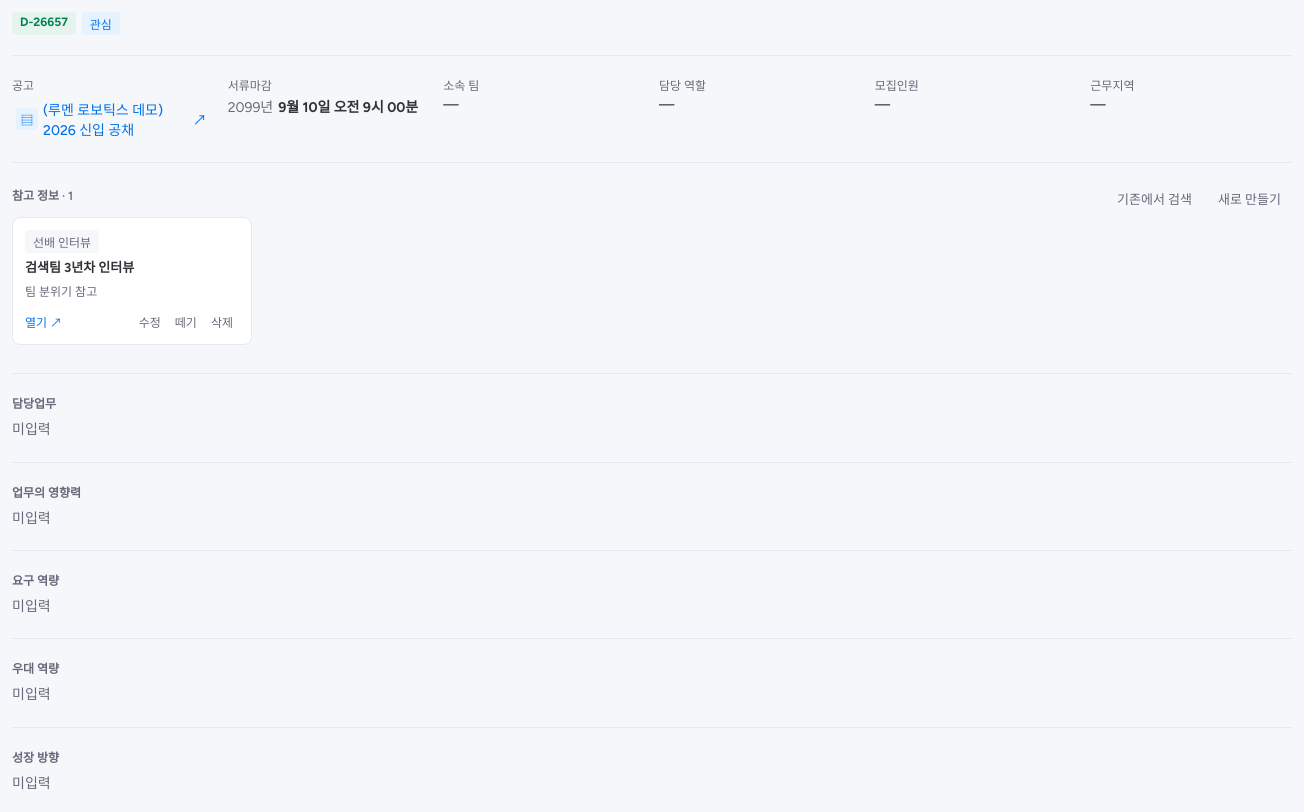
Test case: PositionDetail 참고 정보 › 직무 값과 참고 정보는 각각 더블클릭한 편집기를 연다
The image size is (1304, 812).
Double-click the element showing "▤ (루멘 로보틱스 데모) 2026 신입 공채 ↗" at (113, 119), box [12,96,214,142]
Double-click the text "검색팀 3년차 인터뷰" at (80, 268), box [25,260,134,275]
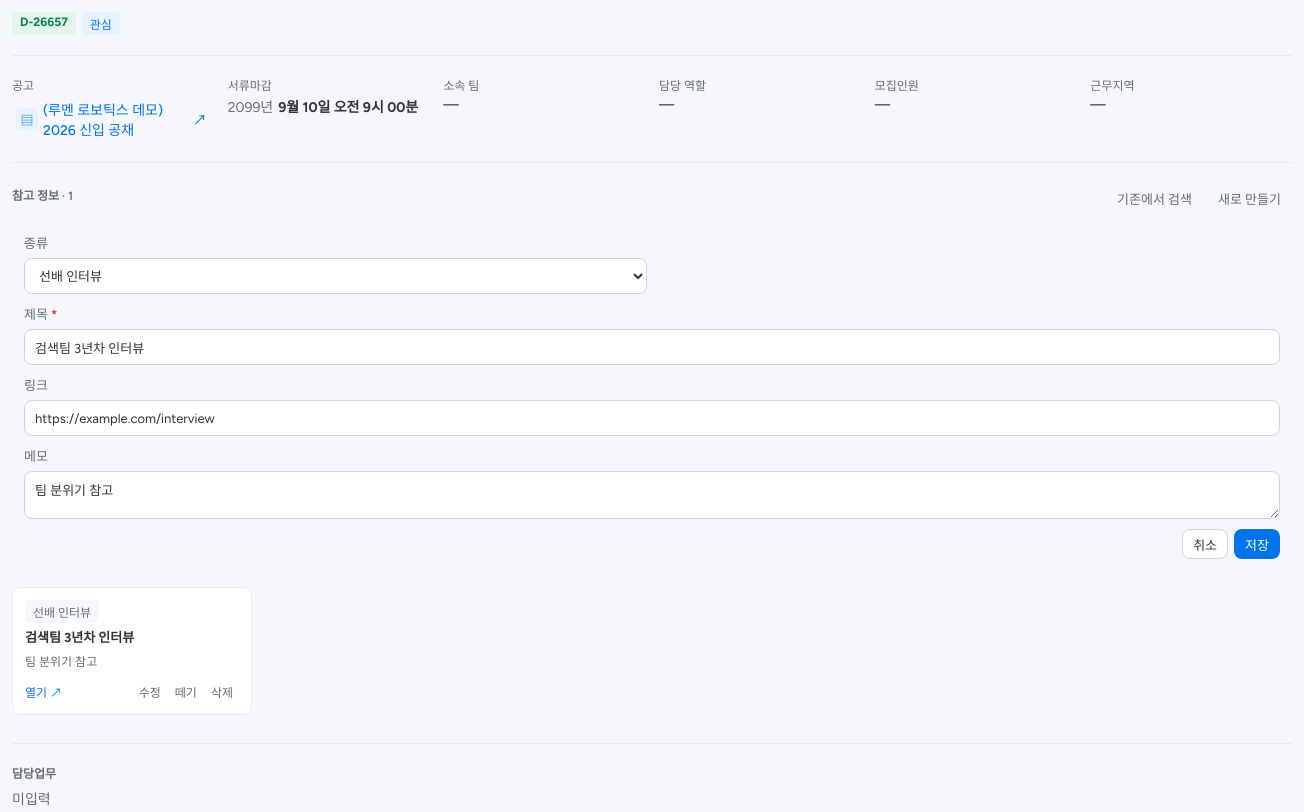
expect the field labelled "제목 *" holds "검색팀 3년차 인터뷰": met, box [24,329,1280,365]
